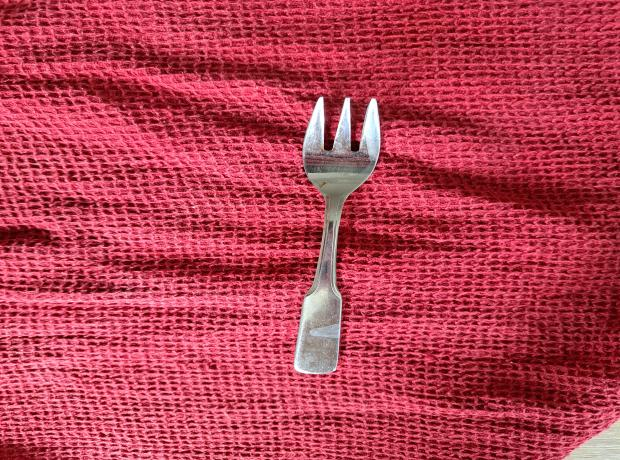metal: (294, 93, 380, 376)
